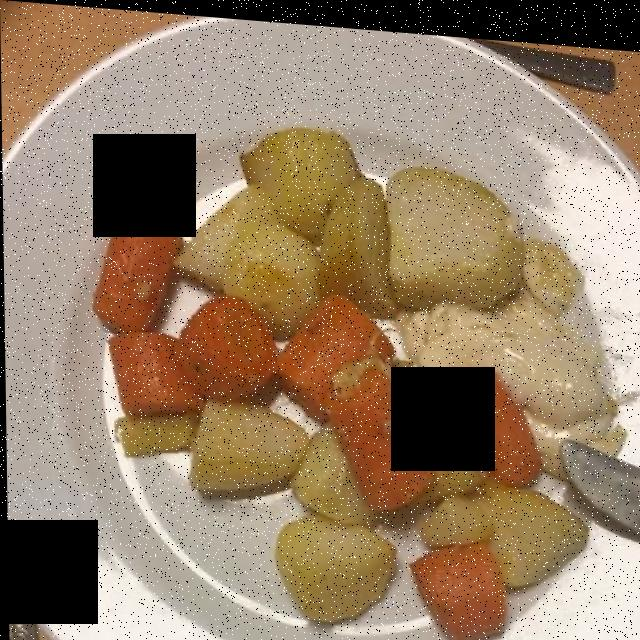carrot-raw: (88, 216, 548, 640)
mayonnaise: (399, 297, 624, 443)
